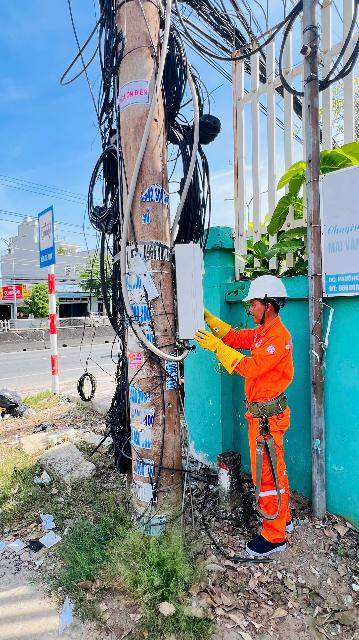gloves: (196, 329, 253, 376), (198, 306, 229, 339)
harness: (231, 384, 307, 423)
helmet: (242, 264, 298, 312)
shoes: (236, 522, 294, 555), (250, 505, 301, 534)
